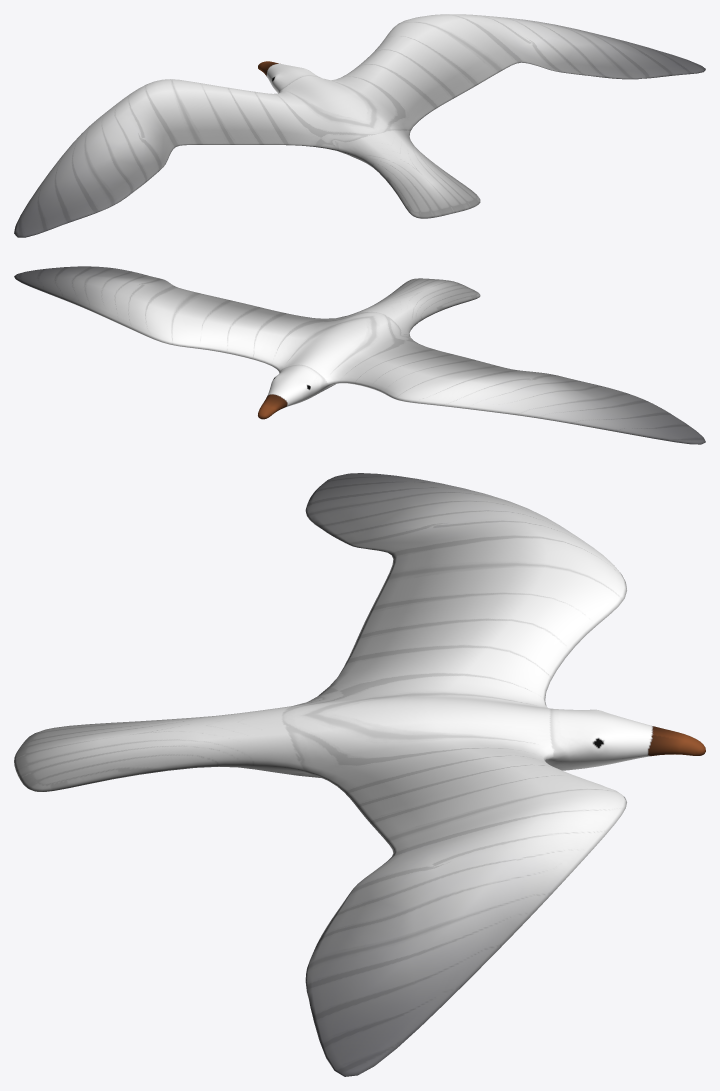
File: albatross.obj
3 views of the same model, one above another, from view 1: azimuth 30°, elevation 25°; view 2: azimuth 150°, elevation 25°; view 3: azimuth 270°, elevation 25° (orthographic). The views are drawn at different scales.
Parts seen in each view (by area): view 1: albatross; view 2: albatross; view 3: albatross.
Boxes of the visible parts, box(x1,y1,x2,y2) form: albatross: box(14, 14, 705, 237); albatross: box(14, 266, 705, 444); albatross: box(14, 473, 705, 1076).
Bounding box in the file's own units: 3 × 0.234 × 1.46.
Materials: 1 (1 with a texture image).
